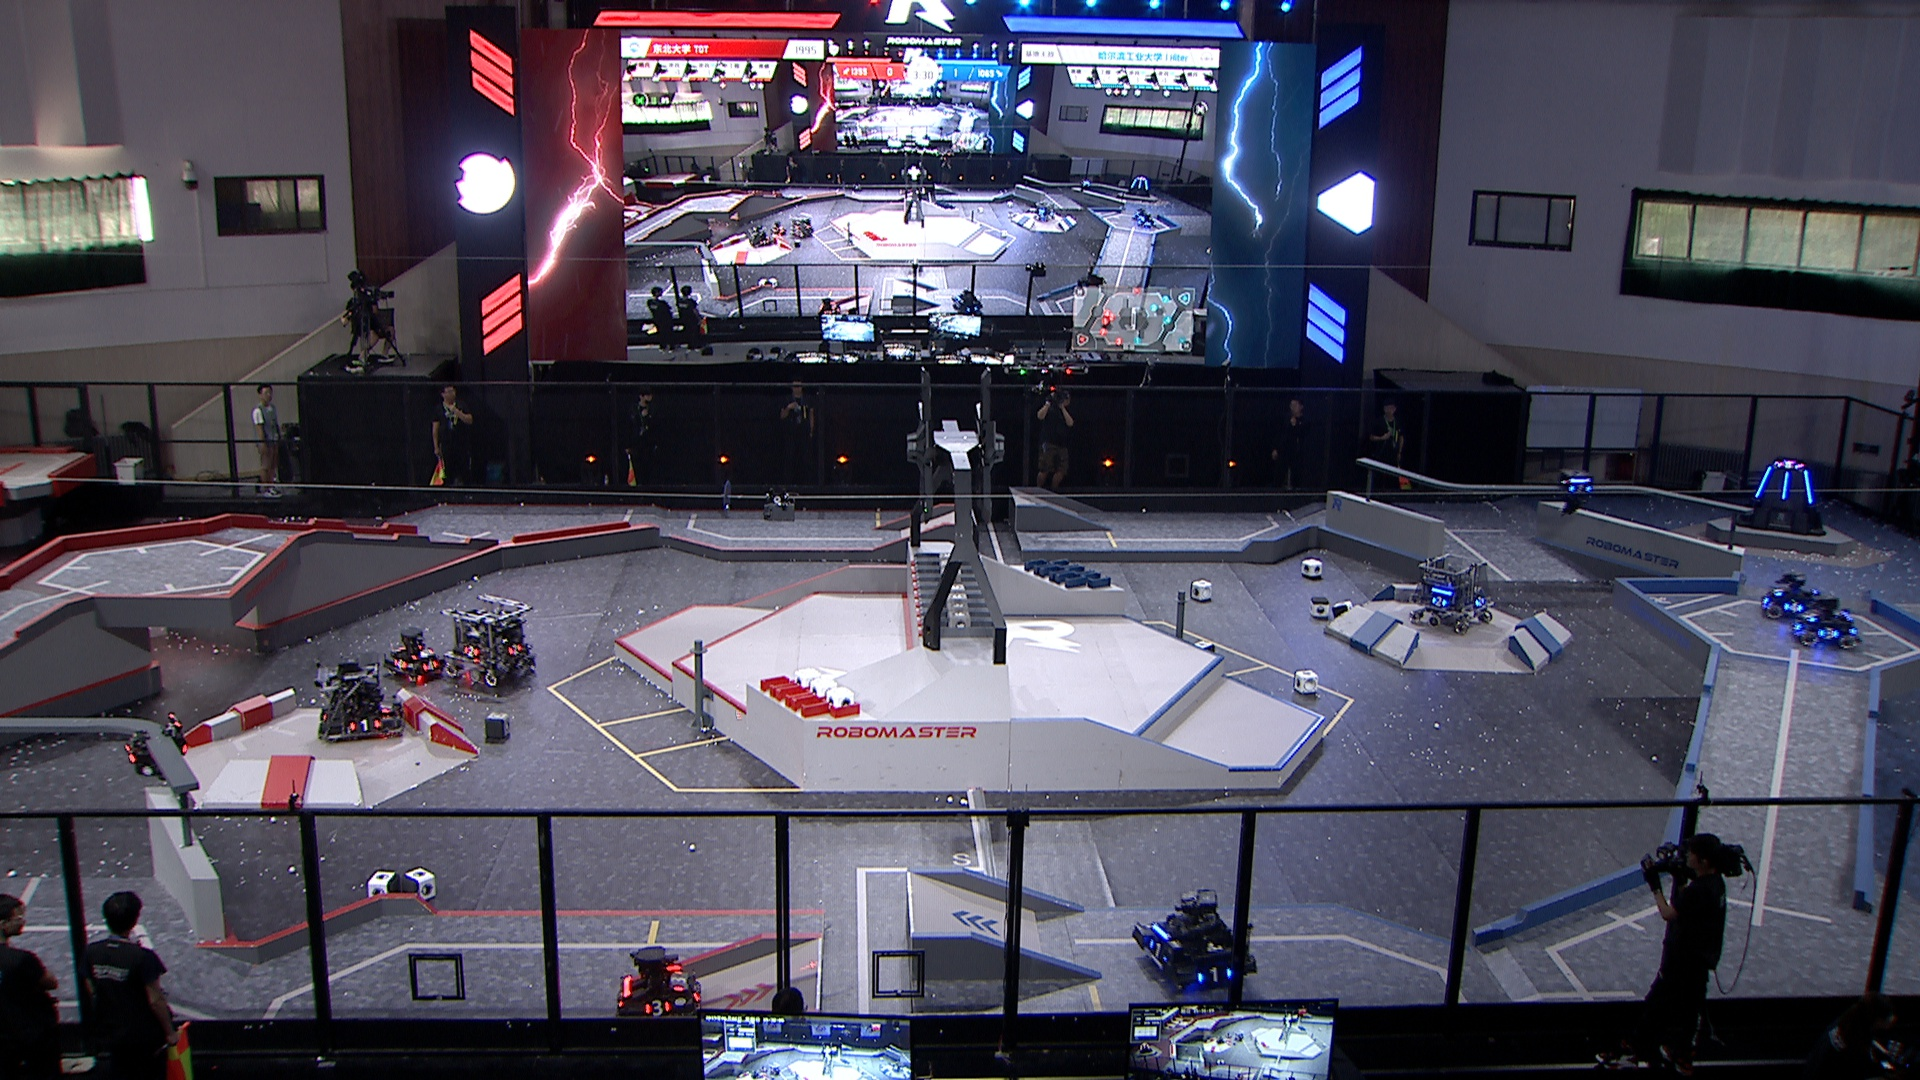armor: (640, 994, 675, 1021), (1195, 965, 1236, 988), (344, 716, 384, 736), (1756, 465, 1774, 498), (686, 981, 707, 1007), (1149, 936, 1168, 964), (670, 968, 688, 994), (119, 740, 136, 767), (1803, 469, 1816, 505), (1569, 481, 1596, 498), (1818, 624, 1841, 644), (386, 655, 410, 674), (375, 698, 396, 717), (419, 655, 440, 675), (1782, 597, 1804, 616), (460, 642, 481, 659), (505, 641, 524, 659), (1472, 591, 1490, 609), (1428, 593, 1449, 609), (1780, 471, 1792, 498), (411, 646, 433, 661), (1799, 609, 1818, 624), (1771, 583, 1785, 599)
base: (1730, 458, 1826, 537)
car: (1130, 891, 1261, 1000), (436, 593, 538, 688), (311, 655, 404, 745), (1408, 549, 1495, 637), (615, 945, 708, 1025), (1789, 589, 1861, 651), (380, 626, 446, 683), (1760, 570, 1825, 621)
ignore: (1122, 173, 1155, 200), (789, 216, 818, 240), (745, 225, 771, 251), (1033, 200, 1058, 224), (1775, 458, 1807, 471)
watcher: (119, 704, 191, 785), (1556, 469, 1600, 516)
